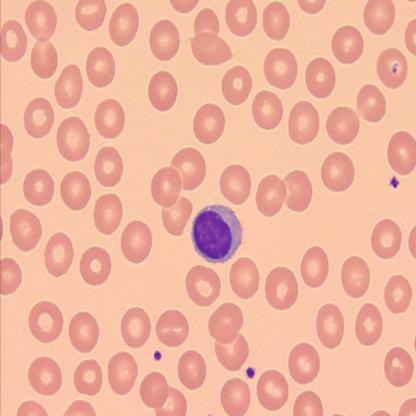Lymphocyte: (189, 204, 244, 265)
